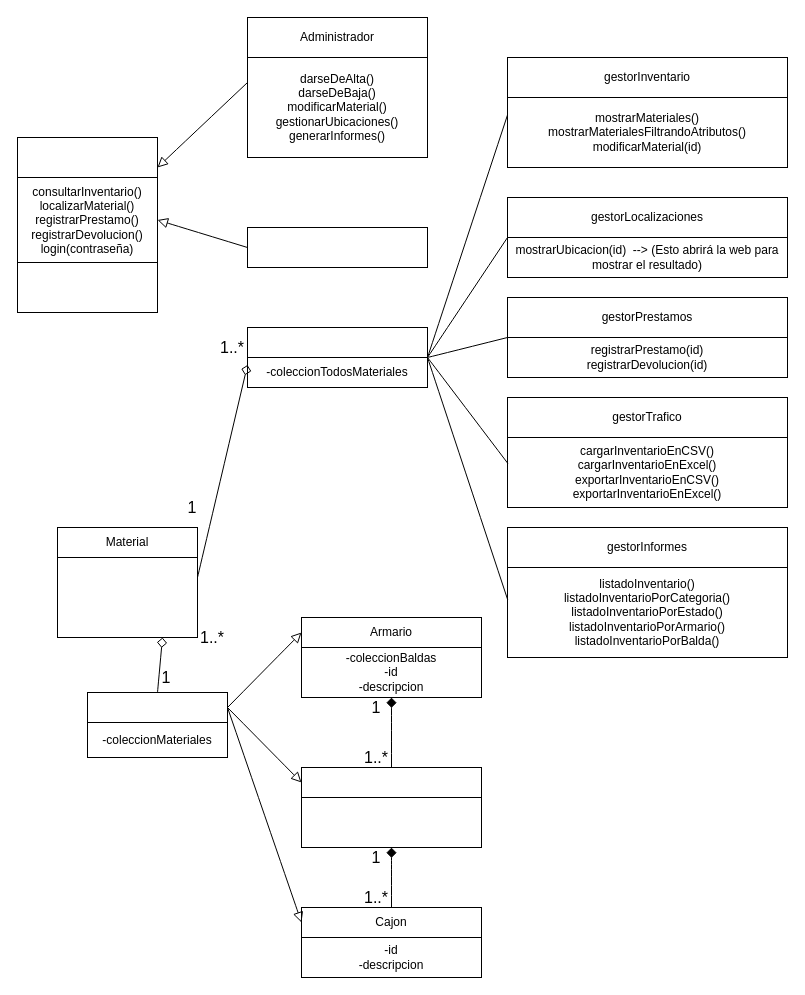
Some shapes in this 805 by 995 pixel diagram are drawn without their labels. Each missing label, with the centre of its shape:
-coleccionCajones -id -descripcion: point 391,822
-contraseña -nombre -email: point 87,287
-id -nombre -descripcion -categoria -estado: point 127,597
Balda: point 391,782
Inventario: point 337,342
Profesor: point 337,247
Ubicación: point 157,707
Usuario: point 87,157
